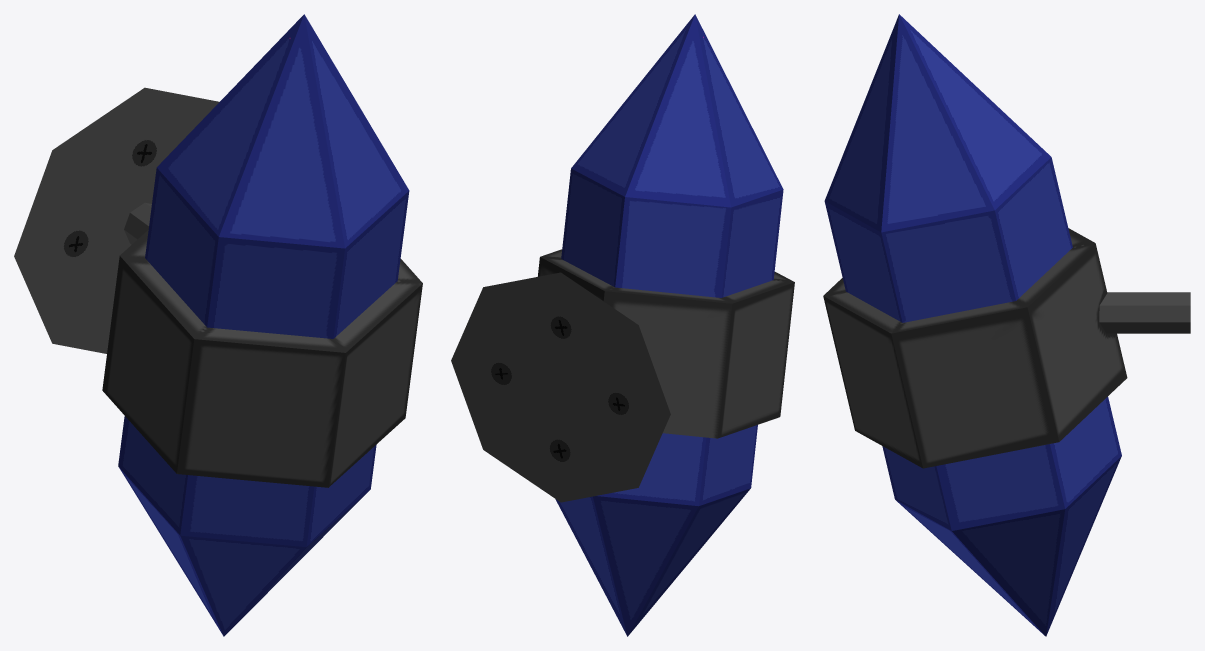
The model's file is WallLamp.fbx.
3 renders of one model, left to right at view 1: azimuth 30°, elevation 25°; view 2: azimuth 150°, elevation 25°; view 3: azimuth 270°, elevation 25°, orthographic. The views are drawn at different scales.
Parts seen in each view (by area): view 1: Circle; view 2: Circle; view 3: Circle.
Boxes of the visible parts, box(x1,y1,x2,y2) form: Circle: box(14, 14, 422, 636); Circle: box(451, 14, 794, 636); Circle: box(823, 14, 1190, 636).
Bounding box in the file's own units: 18.31 × 45.63 × 24.4.
